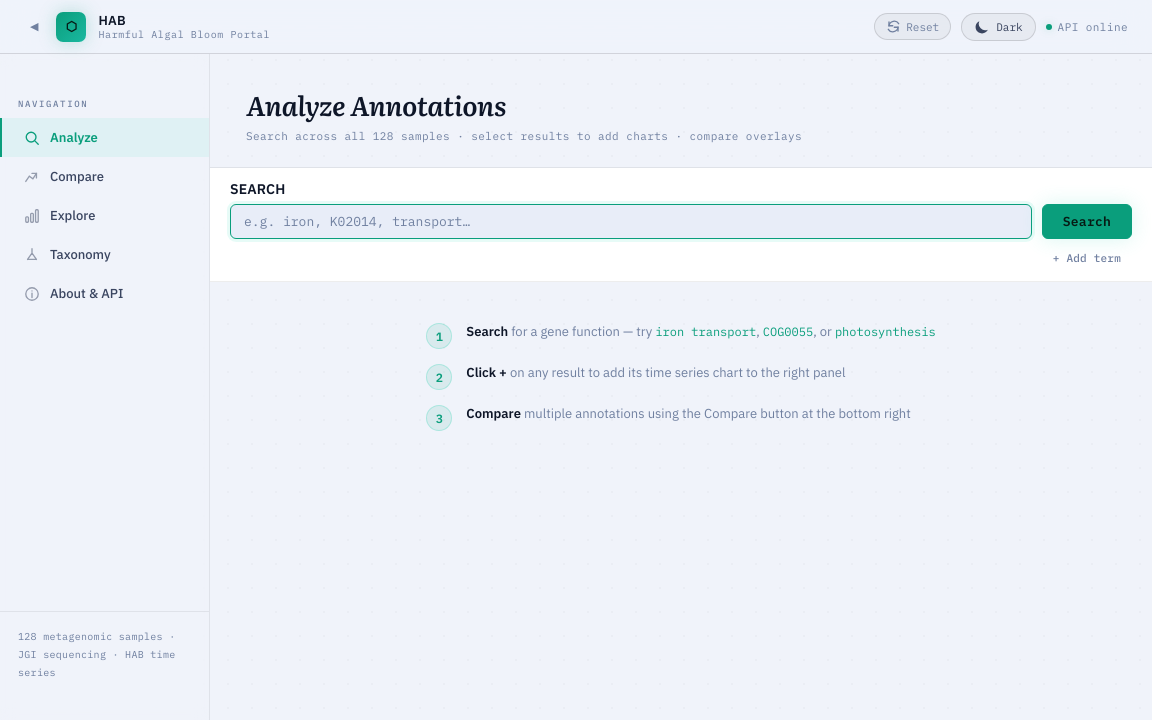
Test: AnalyzePage — search › shows search results after successful search
Type "alcohol" into the field with placeholder "e.g. iron, K02014, transport…". click: [631, 222]
box: [230,204,1032,239]
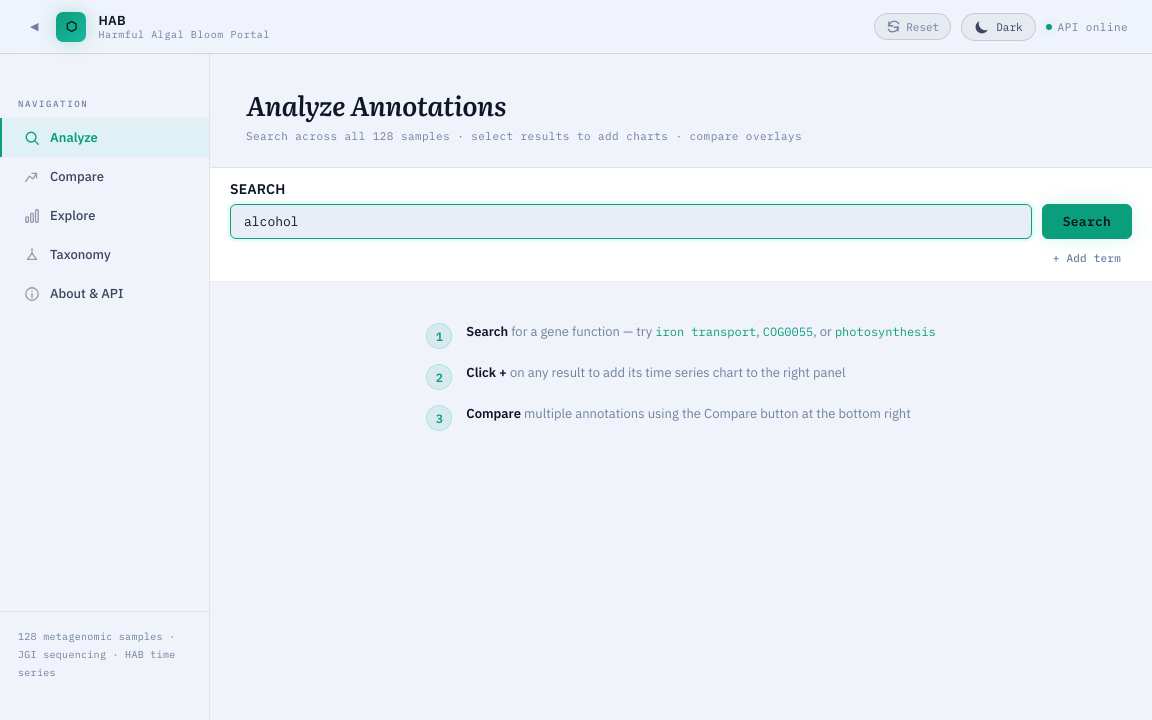
Press Enter
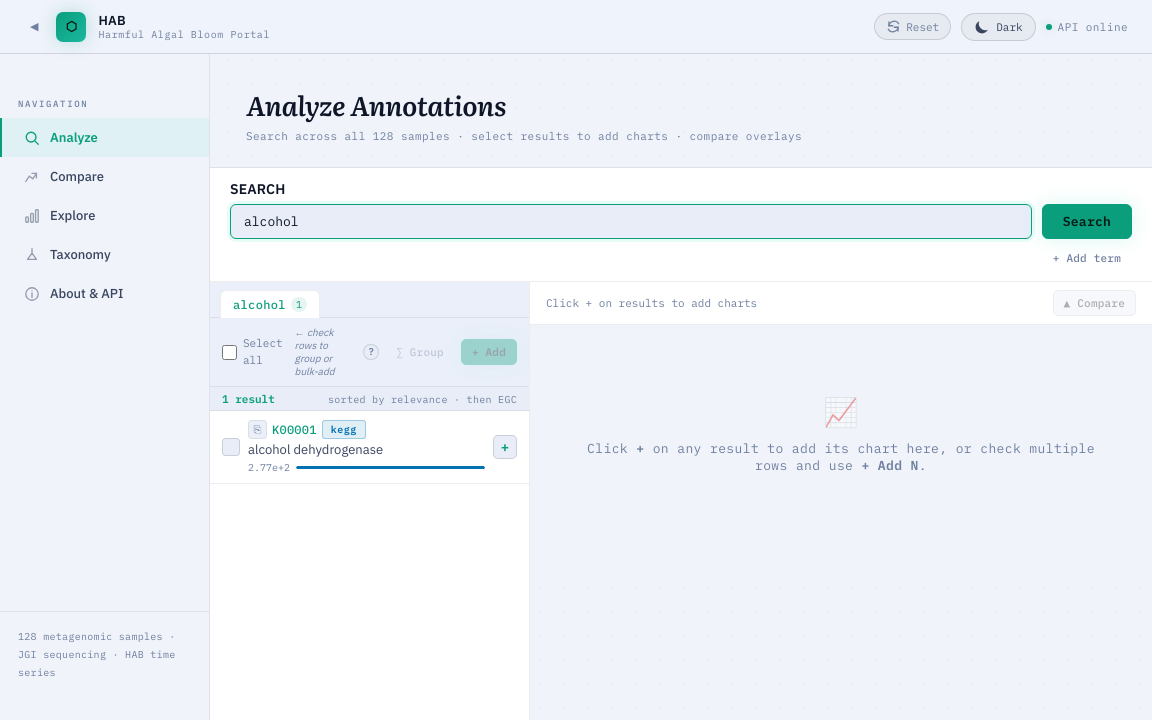
expect the text "K00001" is shown: met, box [272,422,317,437]
expect the text "alcohol dehydrogenase" is shown: met, box [248,441,383,458]
